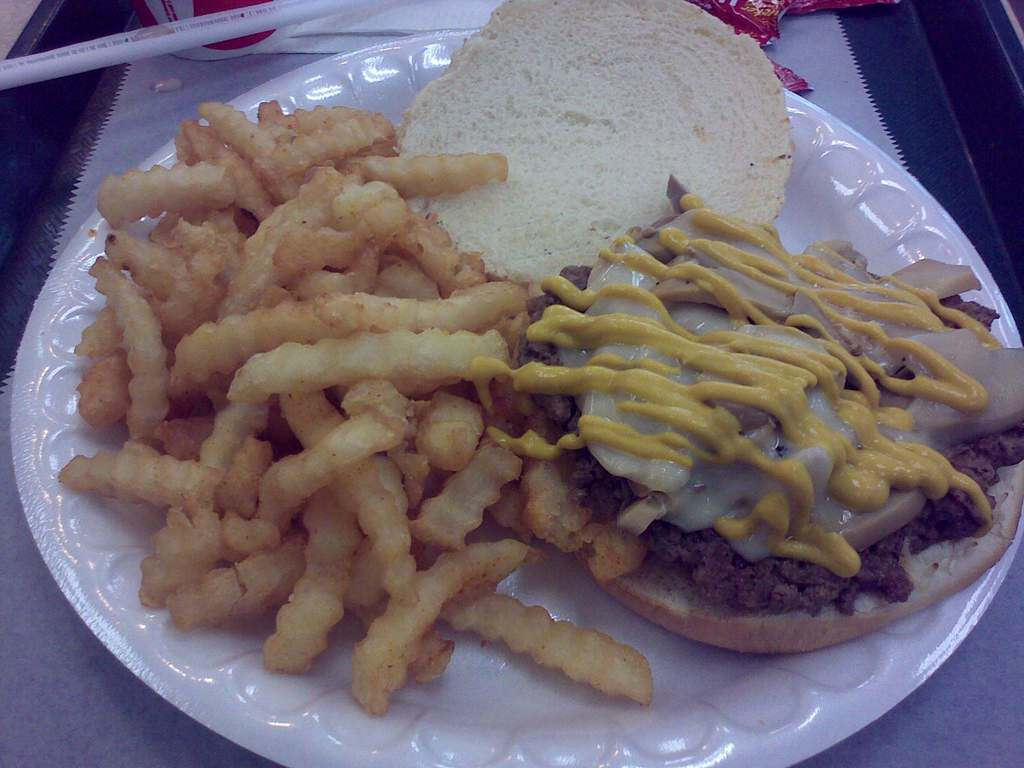French fries: (46, 140, 624, 716)
